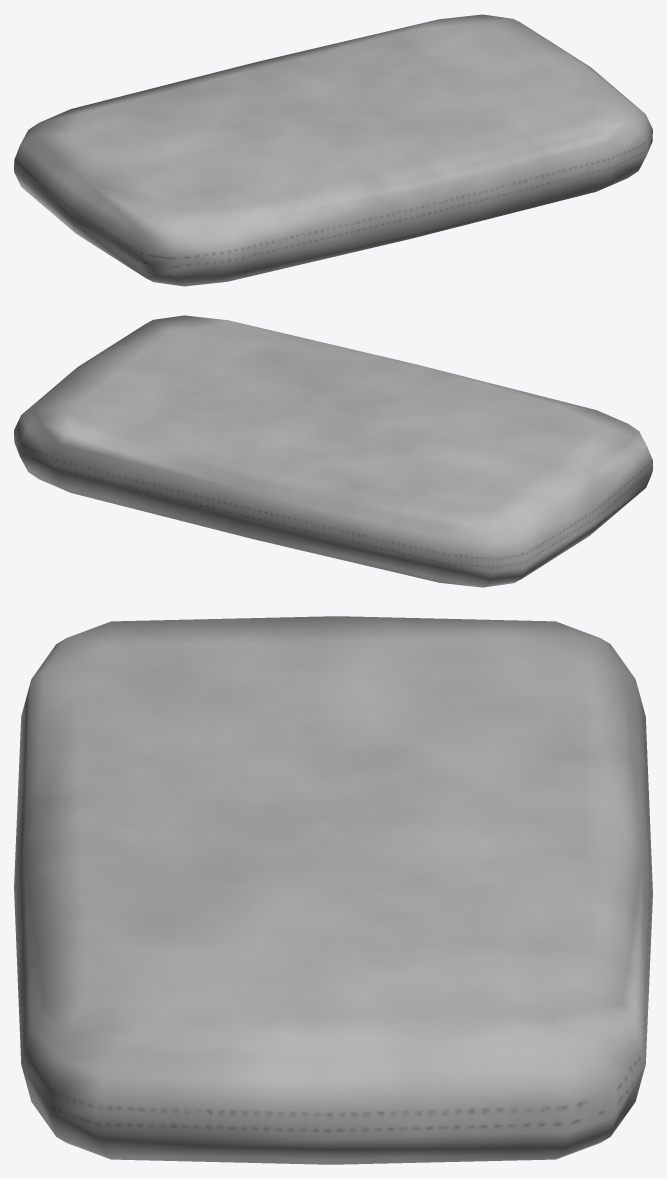
File: LowerTorso_C1.fbx
The picture shows the model from 3 angles, top to bottom: view 1: azimuth 30°, elevation 25°; view 2: azimuth 150°, elevation 25°; view 3: azimuth 270°, elevation 25°; orthographic projection. The views are drawn at different scales.
Parts seen in each view (by area): view 1: Civ_CamperaJean_LowerTorso_C1; view 2: Civ_CamperaJean_LowerTorso_C1; view 3: Civ_CamperaJean_LowerTorso_C1.
Boxes of the visible parts, <box> form: Civ_CamperaJean_LowerTorso_C1: <box>14,14,652,286</box>; Civ_CamperaJean_LowerTorso_C1: <box>14,315,652,587</box>; Civ_CamperaJean_LowerTorso_C1: <box>14,616,652,1164</box>.
Bounding box in the file's own units: 2.25 × 0.2805 × 1.29.
